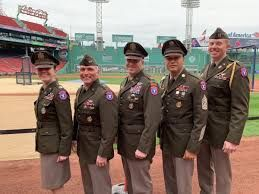uniform: (162, 71, 203, 188), (206, 55, 241, 191), (118, 73, 159, 189), (74, 83, 111, 188), (31, 83, 71, 180)
